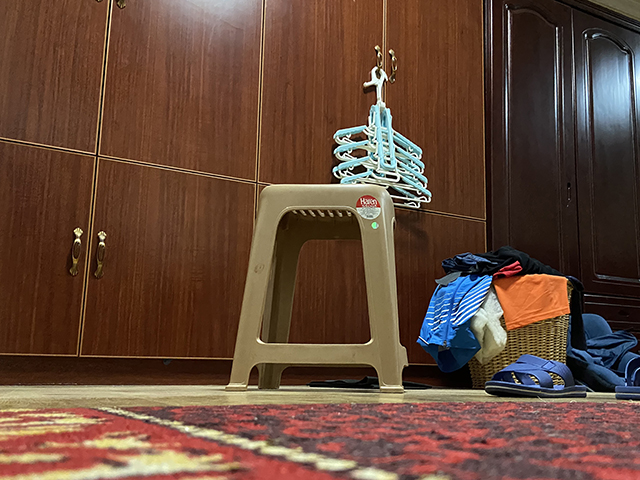cabinet: (1, 1, 485, 387), (494, 1, 640, 276)
carpet: (1, 402, 640, 480)
slippers: (483, 353, 588, 400), (613, 356, 640, 401)
stool: (224, 183, 409, 394)
